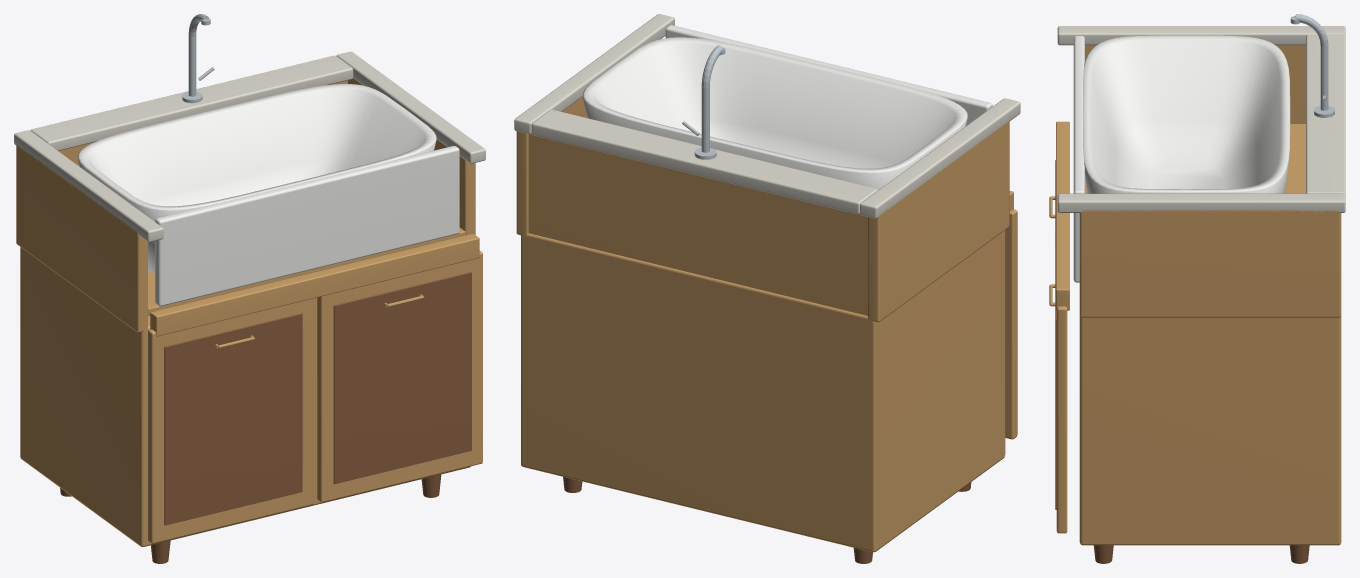
Rendered from designed-sink-farmhouse.glb.
3 renders of one model, left to right at view 1: azimuth 30°, elevation 25°; view 2: azimuth 150°, elevation 25°; view 3: azimuth 270°, elevation 25°, orthographic. The views are drawn at different scales.
Visible parts, largest first — view 1: designed-sink-farmhouse authored assembly; view 2: designed-sink-farmhouse authored assembly; view 3: designed-sink-farmhouse authored assembly.
Part boxes in pixels (<box>): designed-sink-farmhouse authored assembly: <box>14,14,485,563</box>; designed-sink-farmhouse authored assembly: <box>514,14,1020,563</box>; designed-sink-farmhouse authored assembly: <box>1049,14,1345,563</box>.
Bounding box in the file's own units: 0.914 × 1.15 × 0.65.
